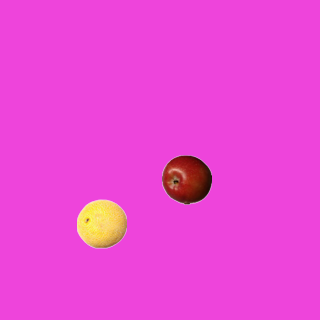Apple Braeburn: (161, 154, 211, 204)
Cantaloupe 1: (76, 198, 126, 248)
